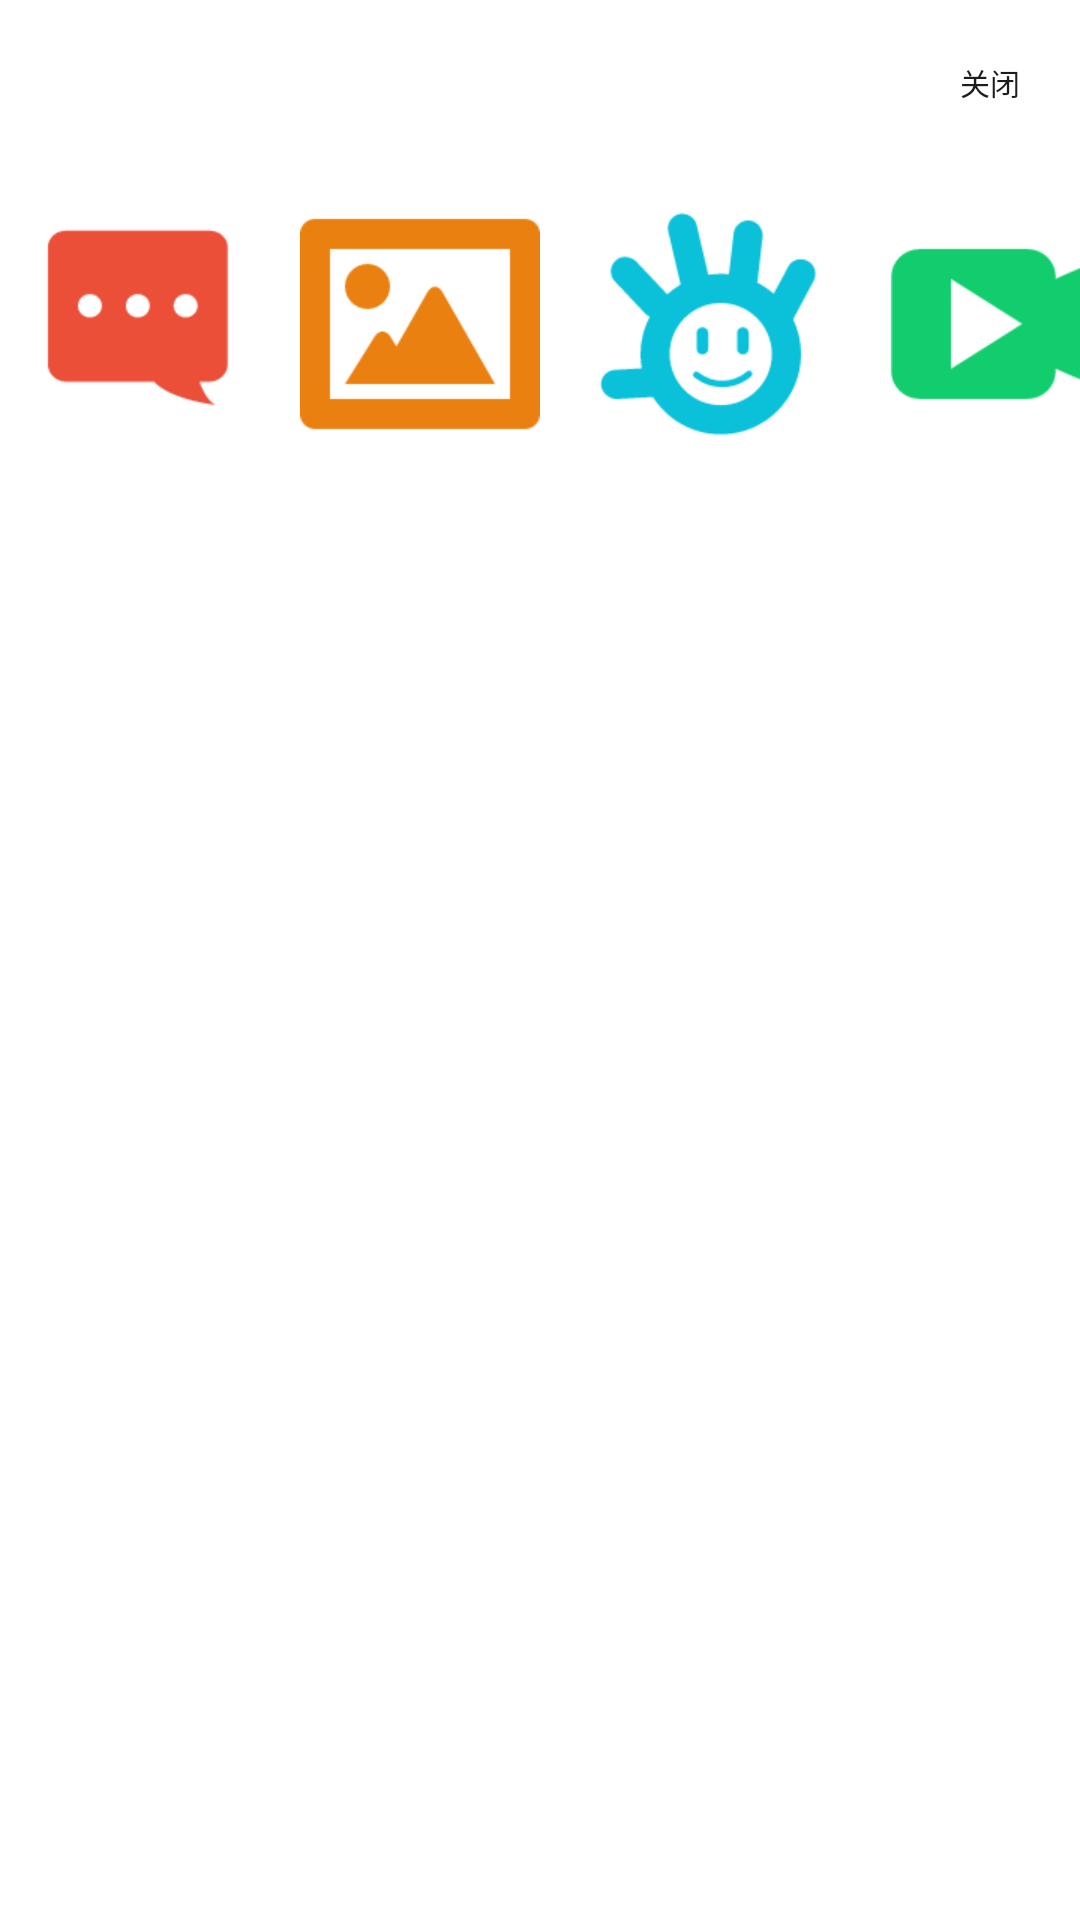

Icons on this 1080 x 1920 Android screen, each with the point to tap as (x=x, y=y):
qiandao: (x=708, y=324)
shuoshuo: (x=138, y=317)
zhaopian: (x=420, y=324)
